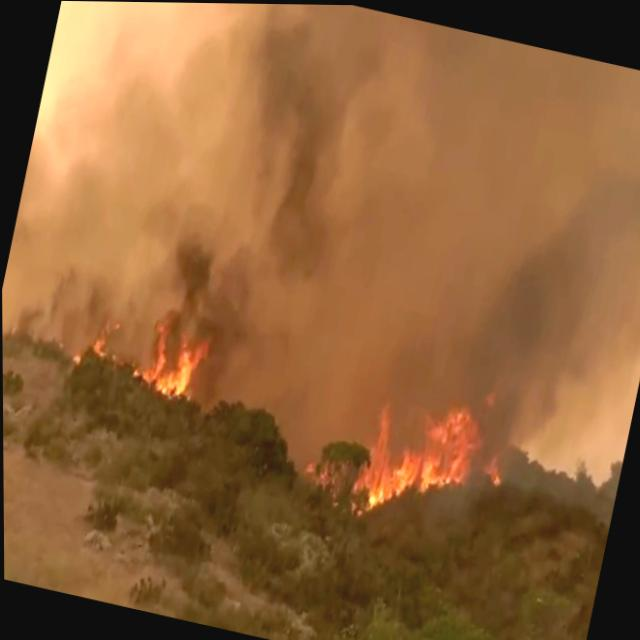fire: (106, 296, 198, 429), (433, 393, 525, 511)
smoke: (96, 1, 640, 427)
